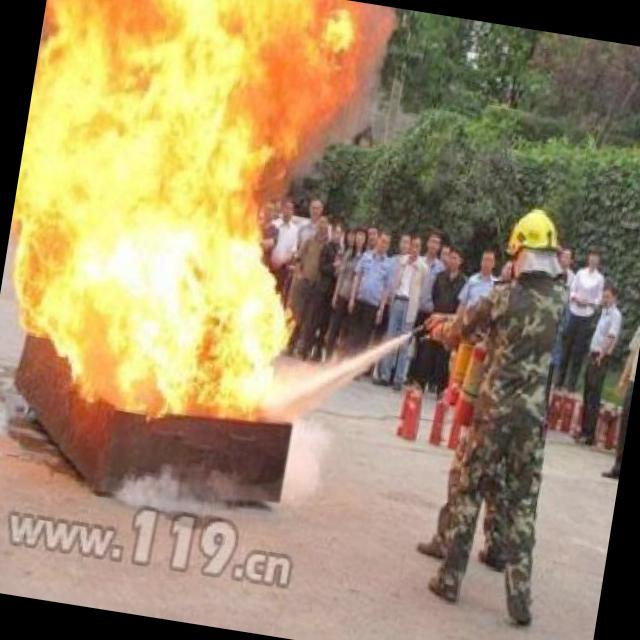Fire_Dangerous: (0, 0, 387, 448)
